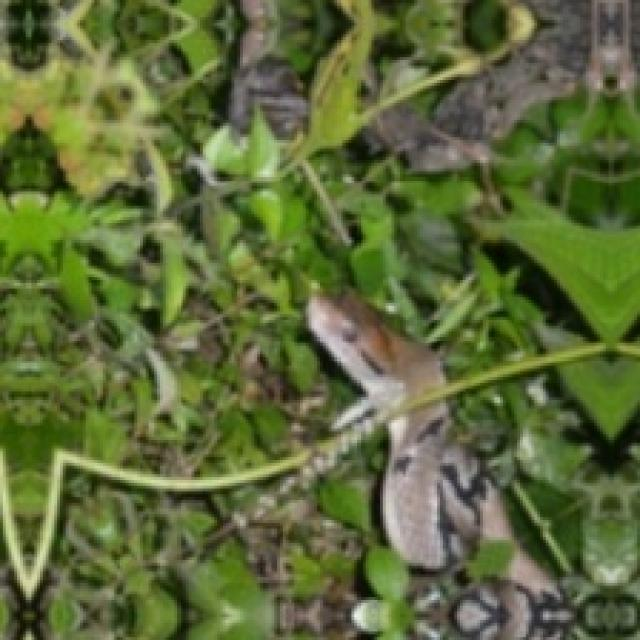dog-toothed cat snake: (380, 400, 546, 637), (306, 294, 443, 409)
